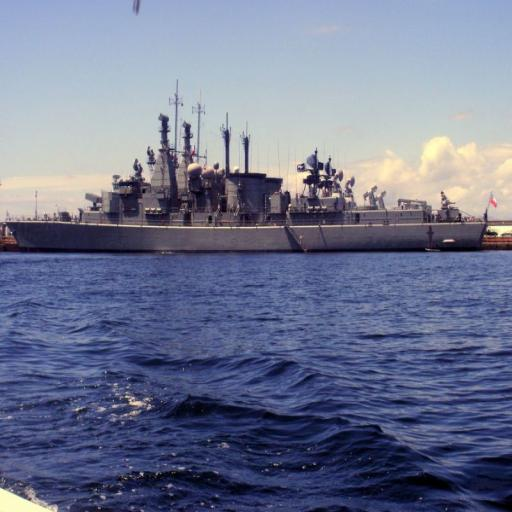Fragata: (7, 87, 496, 256)
